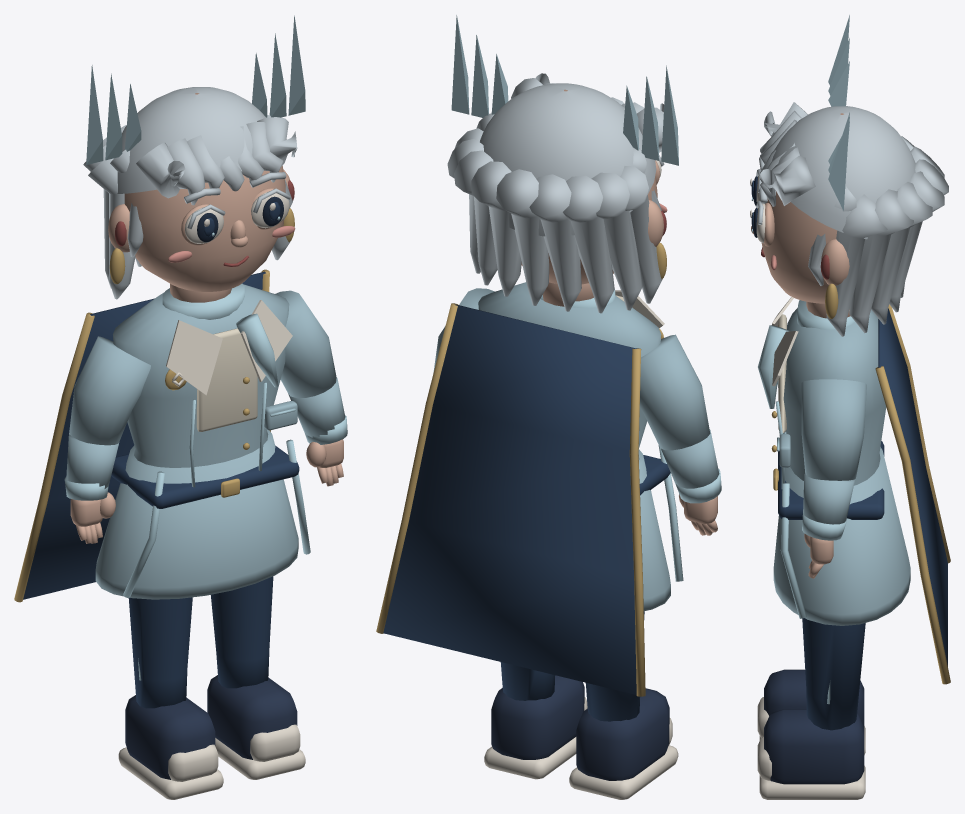
Rendered from elite_frost_mystic.glb.
3 renders of one model, left to right at view 1: azimuth 30°, elevation 25°; view 2: azimuth 150°, elevation 25°; view 3: azimuth 270°, elevation 25°, orthographic. The views are drawn at different scales.
Visible parts, largest first — view 1: figure.015; view 2: figure.015; view 3: figure.015.
Boxes of the visible parts, box(x1,y1,x2,y2) form: figure.015: box(14, 15, 347, 799); figure.015: box(376, 15, 721, 799); figure.015: box(750, 15, 950, 799).
Bounding box in the file's own units: 1.06 × 2.63 × 0.6776.
